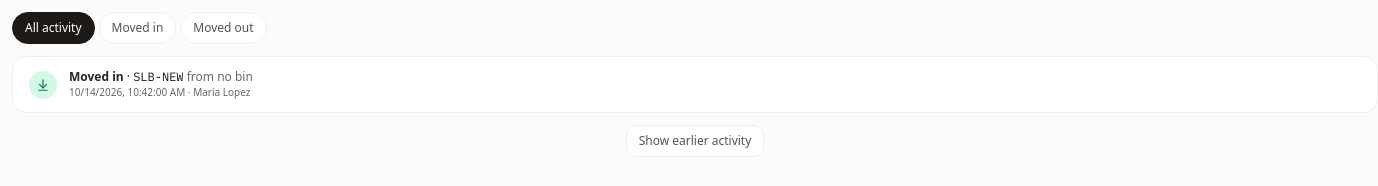
Test: BinHistoryTab › pages back through older activity with the cursor the server gave
This screenshot has width=1378, height=186.
What coordinates should you click on to do the following:
click the button "Show earlier activity"
I would click on:
 (695, 141)
Its box is [626,125,764,157].
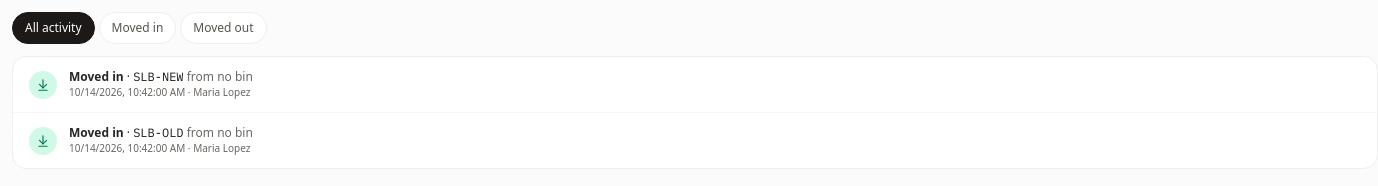
Expected: the button "SLB-NEW" is shown, [133,69,184,85]
Now the button "SLB-OLD" is shown, box [133,125,184,141]
